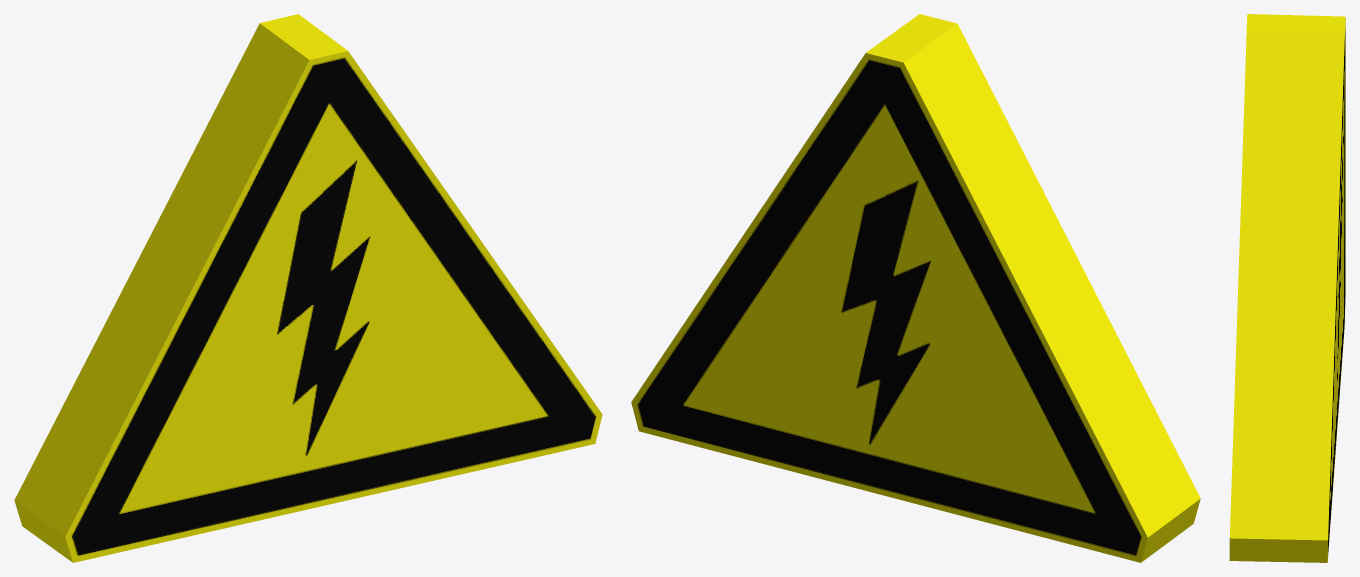
File: Pickup_EMPBlast_001.fbx
3 views of the same model, side by side, from view 1: azimuth 30°, elevation 25°; view 2: azimuth 150°, elevation 25°; view 3: azimuth 270°, elevation 25° (orthographic). The views are drawn at different scales.
Parts seen in each view (by area): view 1: pPlane1; view 2: pPlane1; view 3: pPlane1.
Part boxes in pixels (x1,y1,x2,y2): pPlane1: [14, 14, 602, 562]; pPlane1: [631, 14, 1200, 562]; pPlane1: [1229, 14, 1345, 562].
Size of the model in its own units: 142 by 114 by 28.51.
